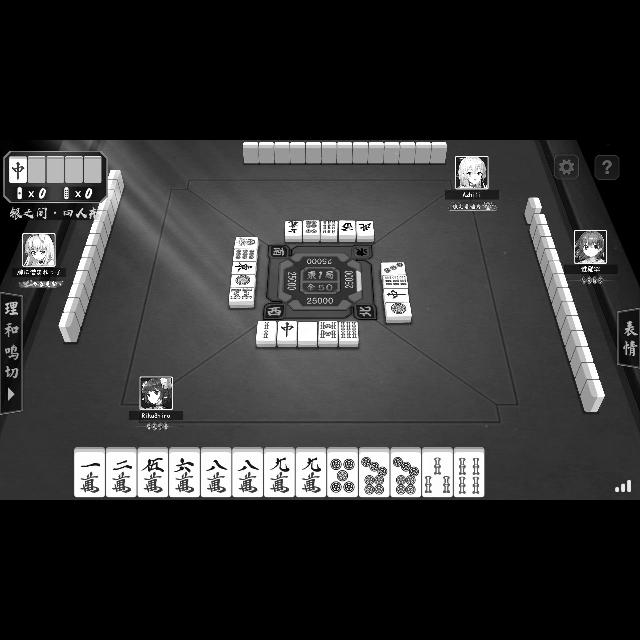1m: (74, 447, 106, 498)
1p: (384, 303, 412, 323), (230, 274, 256, 288)
1s: (235, 237, 259, 249)
2m: (106, 447, 136, 497)
2s: (256, 321, 276, 347)
3p: (380, 262, 406, 274)
3s: (423, 447, 453, 497)
4s: (454, 447, 484, 497)
5m: (137, 447, 169, 497)
5p: (328, 447, 358, 497)
6m: (170, 447, 200, 497)
6p: (303, 220, 319, 242)
6s: (339, 321, 359, 347)
7m: (285, 222, 301, 242)
7p: (391, 448, 422, 498), (359, 447, 389, 497)
8m: (200, 448, 232, 498), (232, 448, 264, 498)
8s: (318, 321, 338, 347), (230, 288, 254, 308)
9m: (264, 448, 296, 498), (296, 447, 326, 497)
9p: (232, 249, 258, 261)
9s: (320, 220, 338, 242), (384, 276, 408, 288)
chun: (9, 156, 27, 184), (277, 322, 297, 346), (383, 288, 409, 302)
haku: (298, 321, 318, 347)
pe: (356, 220, 374, 242)
sha: (338, 220, 356, 242)
tou: (231, 262, 257, 274)
